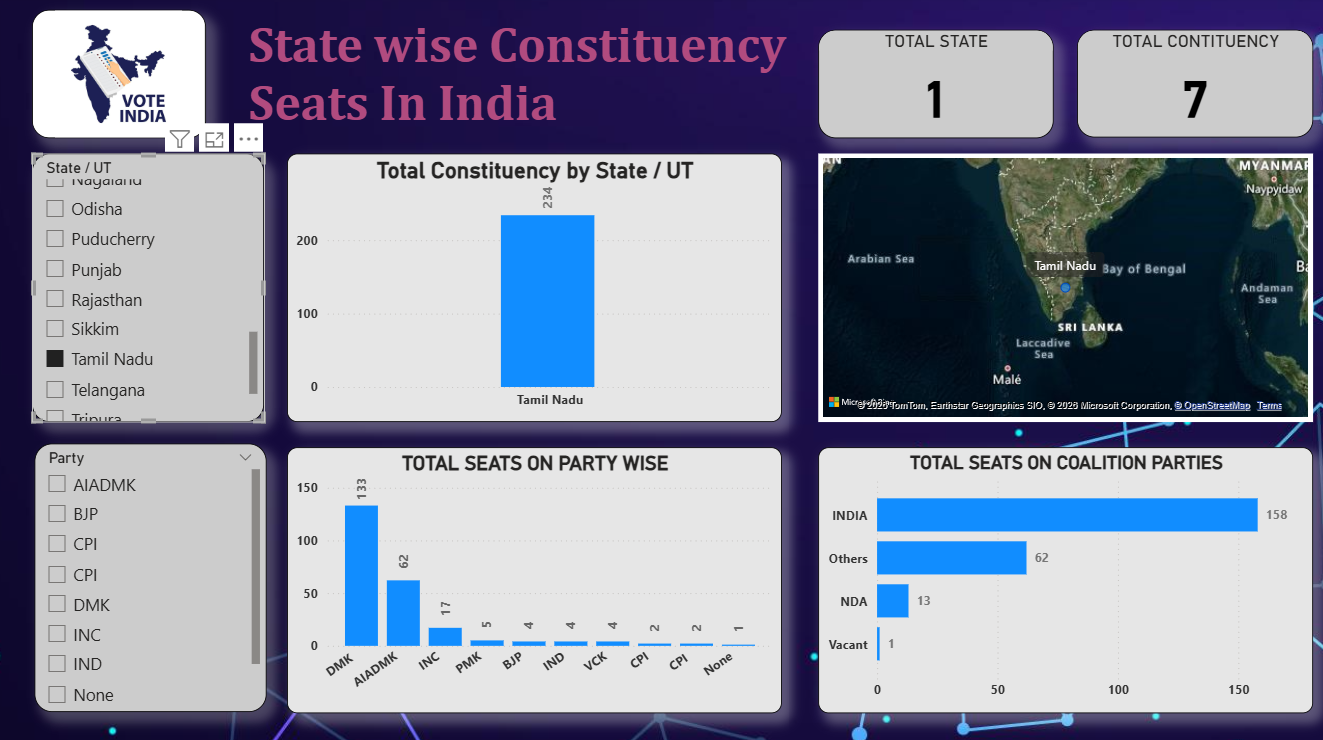

The page's visual inventory and layout, read from the dashboard file:
{"tool":"powerbi","page":{"name":"Page 1","canvas":[1280,720],"ordinal":0},"visuals":[{"type":"card","title":"TOTAL STATE","fields":{"Values":["Count(Data.State / UT)"]},"box":[792.6,32.6,226.8,105],"z":0},{"type":"card","title":"TOTAL CONTITUENCY","fields":{"Values":["Count(Data.Total Constituency)"]},"box":[1042.4,32.6,228,103.8],"z":1000},{"type":"columnChart","title":"Total Constituency by State / UT","fields":{"Category":["Data.State / UT"],"Y":["Sum(Data.Total Constituency)"]},"box":[279.9,152.3,477.5,259.3],"z":2000},{"type":"map","fields":{"Category":["Data.State / UT"]},"box":[793.1,152.3,477.5,259.3],"z":3000},{"type":"columnChart","title":"TOTAL SEATS ON PARTY WISE","fields":{"Y":["Sum(Data.Total Constituency)"],"Category":["Data.Party"]},"box":[279.9,435,477.5,256.6],"z":4000},{"type":"clusteredBarChart","title":"TOTAL SEATS ON COALITION PARTIES","fields":{"Category":["Data.NDA / INDI"],"Y":["Sum(Data.Total Constituency)"]},"box":[793.1,435,477.5,256.6],"z":5000},{"type":"slicer","fields":{"Values":["Data.State / UT"]},"box":[34.3,152.3,223.7,259.3],"z":6000},{"type":"slicer","fields":{"Values":["Data.Party"]},"box":[35.7,432.2,223.7,259.3],"z":7000},{"type":"textbox","box":[237.4,13.7,544.8,138.6],"z":8000},{"type":"image","box":[33.8,13.3,167.7,124.3],"z":8001}]}

Visuals, with their boxes in screenshot pixels (x1, y1, x2, y2), scaled from the page's 1280x720 canvas onto the 1323x740 screenshot:
"TOTAL STATE" card: bbox=(819, 34, 1054, 141)
"TOTAL CONTITUENCY" card: bbox=(1077, 34, 1313, 140)
"Total Constituency by State / UT" columnChart: bbox=(289, 157, 783, 423)
map - Data.State / UT: bbox=(820, 157, 1313, 423)
"TOTAL SEATS ON PARTY WISE" columnChart: bbox=(289, 447, 783, 711)
"TOTAL SEATS ON COALITION PARTIES" clusteredBarChart: bbox=(820, 447, 1313, 711)
slicer - Data.State / UT: bbox=(35, 157, 267, 423)
slicer - Data.Party: bbox=(37, 444, 268, 711)
textbox: bbox=(245, 14, 808, 157)
image: bbox=(35, 14, 208, 141)
